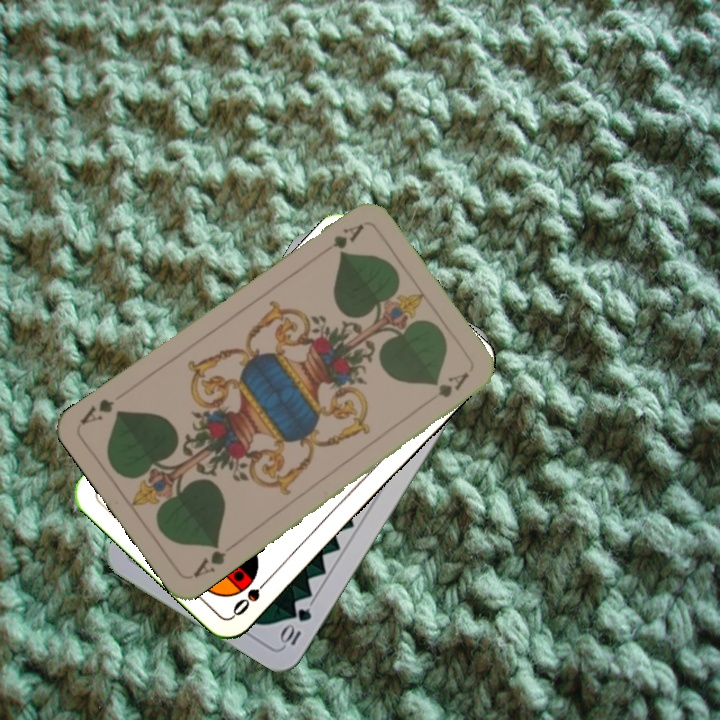G10: (277, 603, 315, 648)
GA: (189, 538, 239, 581), (315, 219, 367, 259)
SO: (228, 571, 274, 619)
